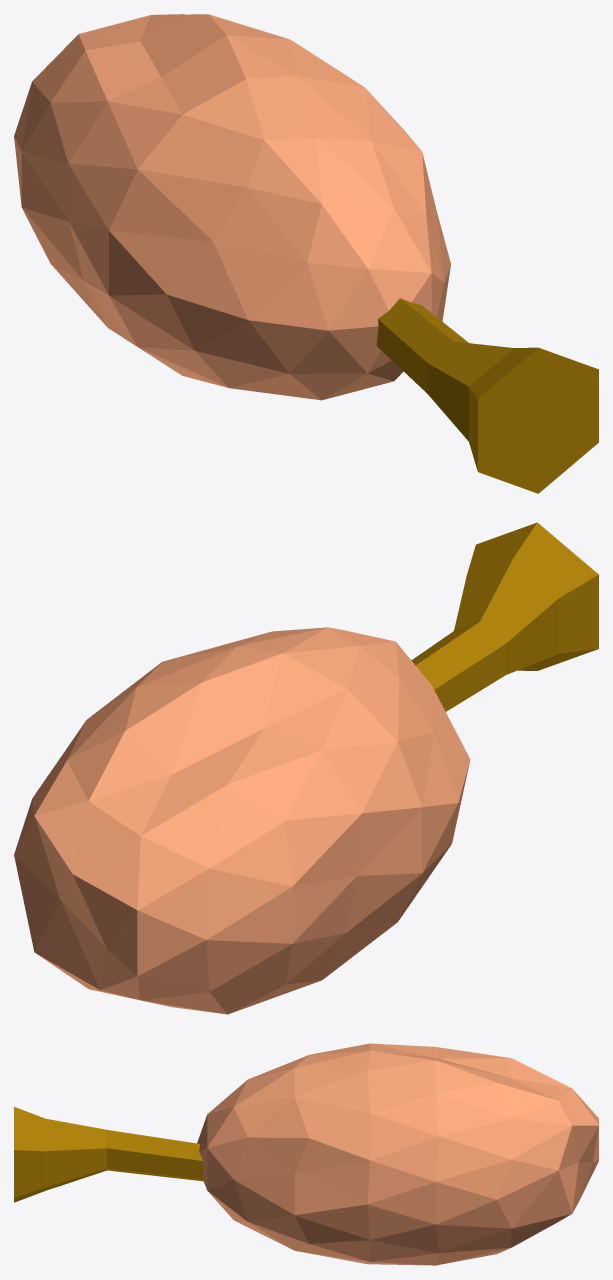
The model's file is tree_02.fbx.
The picture shows the model from 3 angles, top to bottom: view 1: azimuth 30°, elevation 25°; view 2: azimuth 150°, elevation 25°; view 3: azimuth 270°, elevation 25°; orthographic projection. The views are drawn at different scales.
Visible parts, largest first — view 1: Mesh82, Mesh81; view 2: Mesh82, Mesh81; view 3: Mesh82, Mesh81.
Part boxes in pixels (bbox=[...]): Mesh82: bbox=[14, 14, 450, 400]; Mesh81: bbox=[376, 298, 598, 493]; Mesh82: bbox=[14, 627, 470, 1014]; Mesh81: bbox=[411, 522, 598, 711]; Mesh82: bbox=[197, 1043, 598, 1265]; Mesh81: bbox=[14, 1107, 203, 1202].
Bounding box in the file's own units: 1615 × 1510 × 4045.
